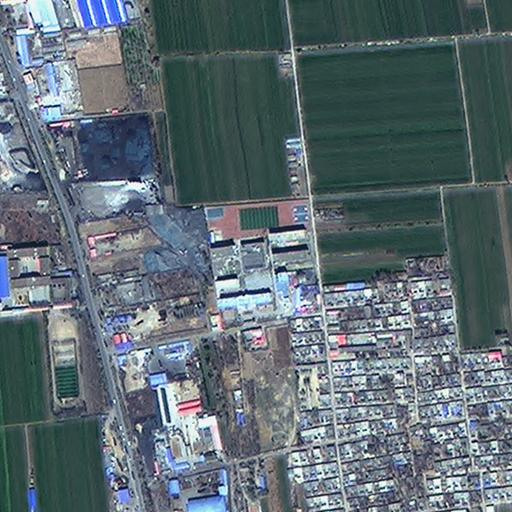school: (201, 195, 312, 309)
